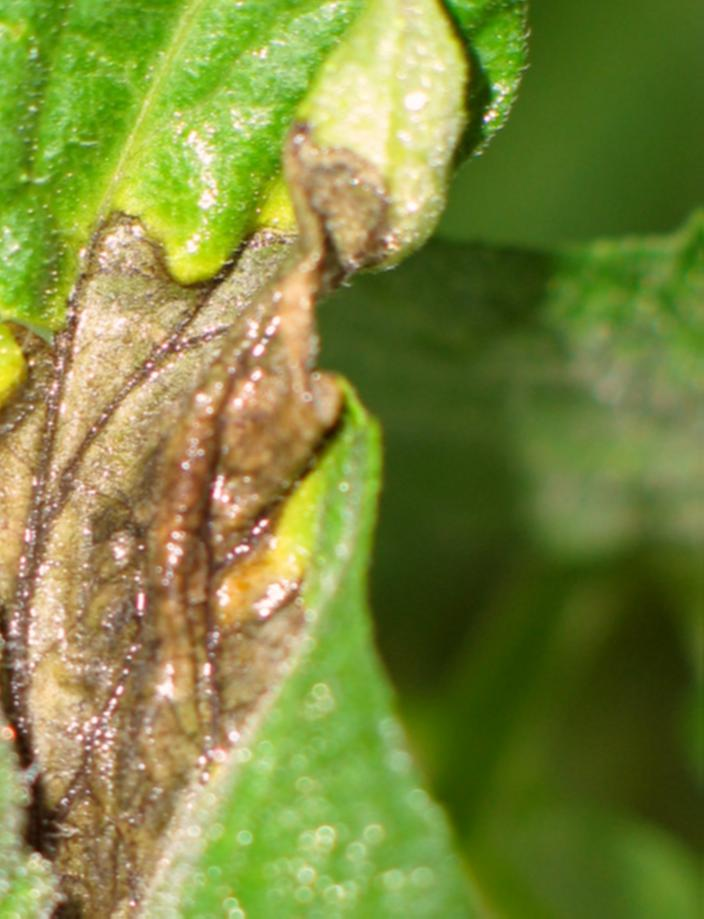Tomato leaf late blight: (0, 0, 590, 919)
